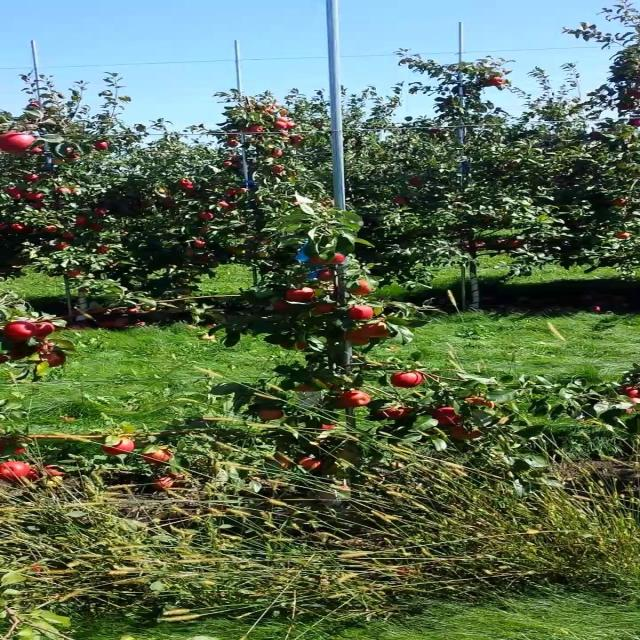apple: (6, 132, 36, 155), (390, 372, 427, 388), (6, 324, 36, 343), (433, 408, 462, 427), (284, 288, 318, 304), (141, 448, 172, 465), (340, 392, 372, 408), (6, 464, 32, 482), (106, 440, 135, 456), (362, 324, 391, 339), (348, 280, 375, 296), (298, 380, 334, 392), (42, 352, 68, 368), (454, 428, 484, 441), (148, 476, 172, 492), (6, 440, 28, 456), (348, 308, 377, 320), (383, 408, 412, 420), (348, 332, 370, 347), (35, 324, 57, 339), (298, 460, 324, 472), (312, 304, 336, 316), (468, 400, 498, 408), (276, 300, 295, 312), (276, 456, 293, 469), (35, 344, 57, 354), (28, 144, 46, 156), (13, 348, 30, 360), (326, 256, 348, 265), (42, 468, 66, 476), (262, 412, 284, 420), (319, 272, 334, 281), (312, 256, 327, 264), (13, 448, 28, 456), (319, 424, 334, 432), (298, 344, 311, 351), (625, 408, 635, 415), (625, 388, 636, 393), (632, 400, 638, 404)
